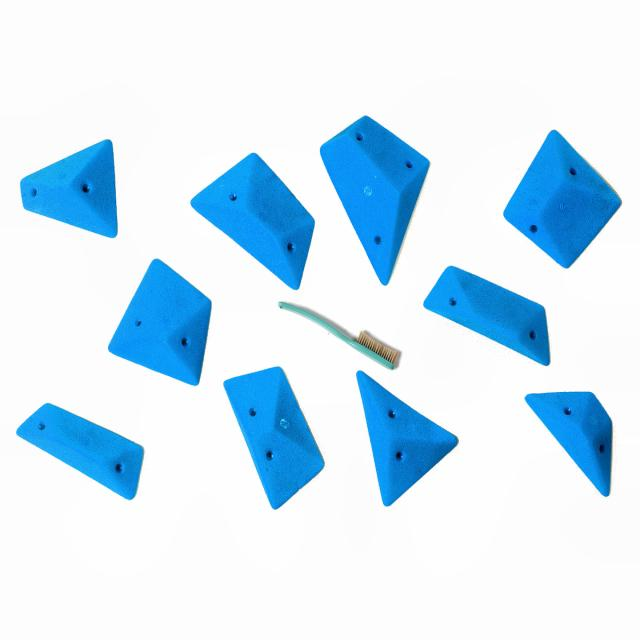Hold: (319, 112, 431, 289), (186, 148, 313, 297), (346, 367, 466, 508), (415, 268, 561, 376), (504, 133, 618, 269), (223, 370, 330, 506), (15, 400, 146, 508), (102, 257, 216, 381), (519, 382, 620, 496), (17, 133, 124, 240)
